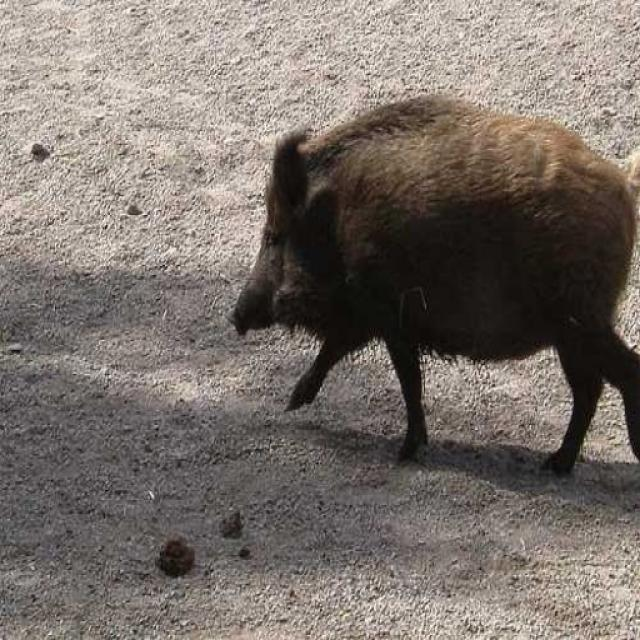pig: (252, 72, 640, 490)
